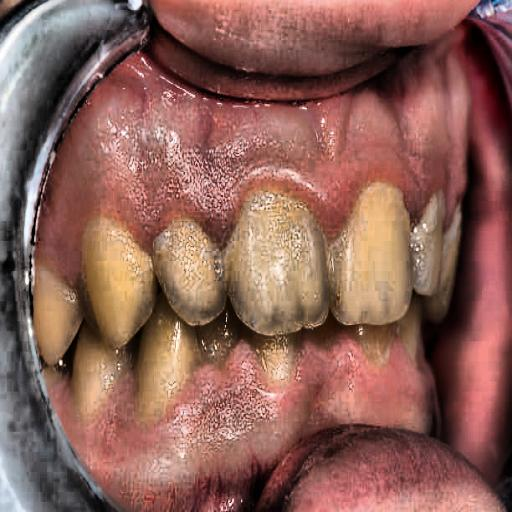Calculus: (36, 201, 449, 408)
